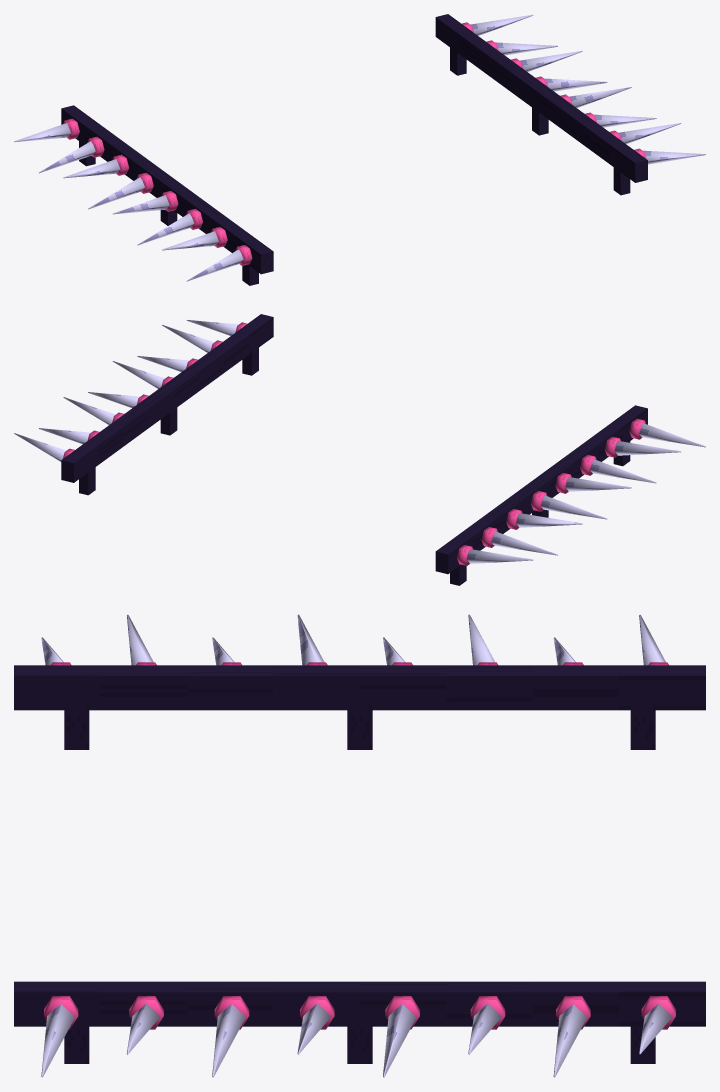
Rendered from Upgrade Side Spikes.fbx.
The picture shows the model from 3 angles, top to bottom: view 1: azimuth 30°, elevation 25°; view 2: azimuth 150°, elevation 25°; view 3: azimuth 270°, elevation 25°; orthographic projection. The views are drawn at different scales.
Visible parts, largest first — view 1: Upgrade Side Spikes spike rail 1, Upgrade Side Spikes spike rail -1, Upgrade Side Spikes spike -1 2, Upgrade Side Spikes spike 1 0, Upgrade Side Spikes spike -1 0, Upgrade Side Spikes spike -1 4, Upgrade Side Spikes spike -1 6, Upgrade Side Spikes spike 1 4, Upgrade Side Spikes spike 1 6, Upgrade Side Spikes spike -1 3, Upgrade Side Spikes spike -1 1, Upgrade Side Spikes spike -1 5 (+6 smaller); view 2: Upgrade Side Spikes spike rail 1, Upgrade Side Spikes spike rail -1, Upgrade Side Spikes spike -1 7, Upgrade Side Spikes spike -1 1, Upgrade Side Spikes spike -1 5, Upgrade Side Spikes spike -1 3, Upgrade Side Spikes spike -1 2, Upgrade Side Spikes spike -1 6, Upgrade Side Spikes spike -1 0, Upgrade Side Spikes spike -1 4; view 3: Upgrade Side Spikes spike rail -1, Upgrade Side Spikes spike rail 1, Upgrade Side Spikes spike bracket -1 1, Upgrade Side Spikes spike bracket -1 0, Upgrade Side Spikes spike bracket -1 2, Upgrade Side Spikes spike 1 4, Upgrade Side Spikes spike 1 6, Upgrade Side Spikes spike 1 2, Upgrade Side Spikes spike 1 0, Upgrade Side Spikes spike bracket 1 1, Upgrade Side Spikes spike bracket 1 0, Upgrade Side Spikes spike 1 7 (+4 smaller).
Part boxes in pixels (box(x1,y1,x2,y2)): Upgrade Side Spikes spike rail 1: box(435, 14, 647, 182); Upgrade Side Spikes spike rail -1: box(61, 105, 273, 274); Upgrade Side Spikes spike -1 2: box(137, 213, 194, 245); Upgrade Side Spikes spike 1 0: box(643, 150, 705, 164); Upgrade Side Spikes spike -1 0: box(186, 249, 243, 281); Upgrade Side Spikes spike -1 4: box(88, 177, 144, 209); Upgrade Side Spikes spike -1 6: box(39, 141, 95, 173); Upgrade Side Spikes spike 1 4: box(544, 78, 607, 91); Upgrade Side Spikes spike 1 6: box(495, 42, 557, 55); Upgrade Side Spikes spike -1 3: box(113, 195, 169, 214); Upgrade Side Spikes spike -1 1: box(162, 231, 218, 250); Upgrade Side Spikes spike -1 5: box(63, 159, 120, 178); Upgrade Side Spikes spike rail 1: box(61, 314, 273, 482); Upgrade Side Spikes spike rail -1: box(435, 405, 647, 574); Upgrade Side Spikes spike -1 7: box(466, 549, 533, 563); Upgrade Side Spikes spike -1 1: box(614, 441, 681, 455); Upgrade Side Spikes spike -1 5: box(516, 513, 582, 527); Upgrade Side Spikes spike -1 3: box(565, 477, 631, 491); Upgrade Side Spikes spike -1 2: box(590, 459, 656, 483); Upgrade Side Spikes spike -1 6: box(491, 531, 557, 555); Upgrade Side Spikes spike -1 0: box(639, 423, 705, 447); Upgrade Side Spikes spike -1 4: box(540, 495, 607, 519); Upgrade Side Spikes spike rail -1: box(14, 665, 705, 710); Upgrade Side Spikes spike rail 1: box(14, 981, 705, 1026); Upgrade Side Spikes spike bracket -1 1: box(347, 704, 372, 749); Upgrade Side Spikes spike bracket -1 0: box(64, 704, 89, 749); Upgrade Side Spikes spike bracket -1 2: box(630, 704, 655, 749); Upgrade Side Spikes spike 1 4: box(383, 1004, 416, 1077); Upgrade Side Spikes spike 1 6: box(553, 1004, 587, 1077); Upgrade Side Spikes spike 1 2: box(212, 1004, 245, 1077); Upgrade Side Spikes spike 1 0: box(41, 1004, 74, 1077); Upgrade Side Spikes spike bracket 1 1: box(347, 1026, 372, 1063); Upgrade Side Spikes spike bracket 1 0: box(64, 1026, 89, 1063); Upgrade Side Spikes spike 1 7: box(639, 1003, 672, 1054).
Bounding box in the file's own units: 3.3 × 0.26 × 2.2.
3 materials, 3 textured.
